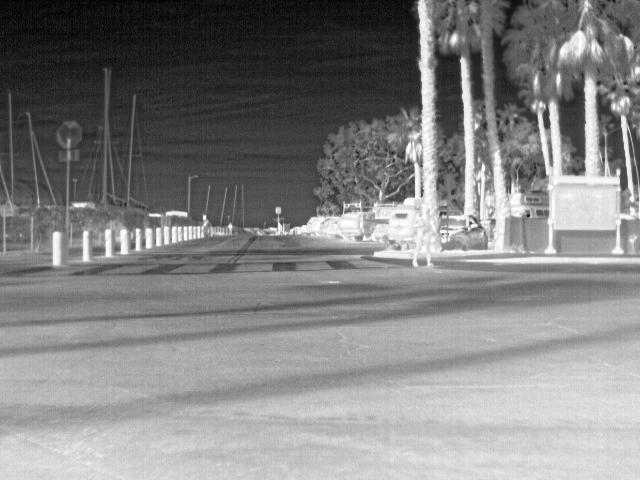car: (441, 214, 489, 248), (386, 206, 412, 250), (339, 211, 372, 242), (370, 206, 389, 242), (511, 206, 549, 220), (323, 218, 341, 239), (308, 215, 324, 236), (294, 223, 308, 236)
person: (412, 203, 434, 269), (225, 222, 235, 236)
